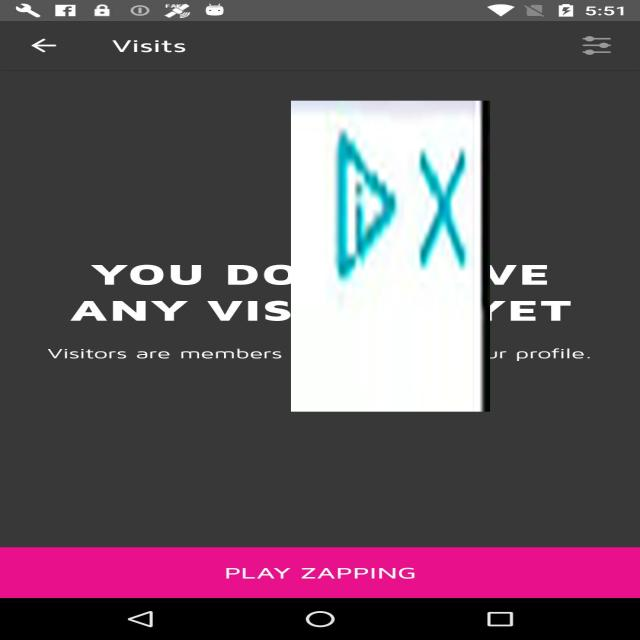sneaking: (291, 100, 490, 412)
